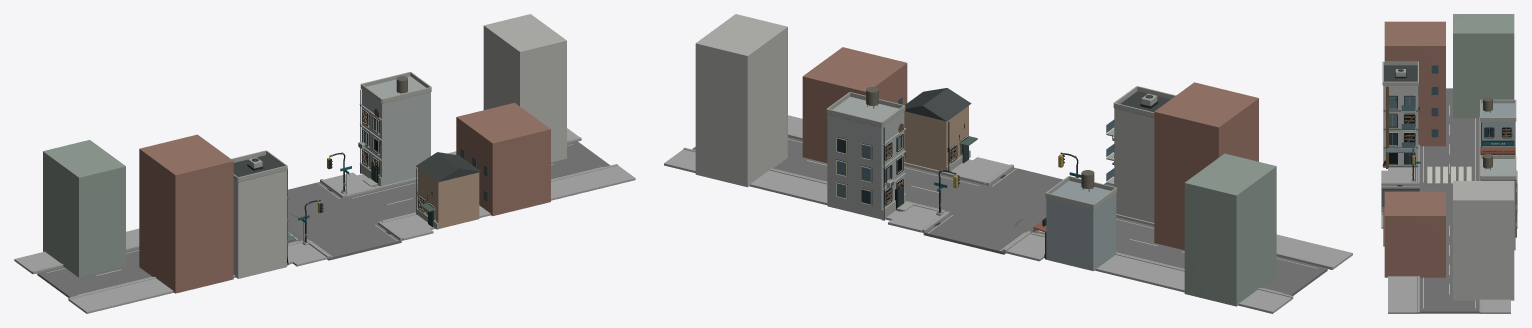
Rendered from city_hd_23.glb.
3 views of the same model, side by side, from view 1: azimuth 30°, elevation 25°; view 2: azimuth 150°, elevation 25°; view 3: azimuth 270°, elevation 25° (orthographic). The views are drawn at different scales.
Visible parts, largest first — view 1: CITY_realwall_9a7567, CITY_realwall_b8b9b4, CITY_PBR_asphalt, CITY_realwall_929f96, CITY_PBR_pavement, CITY_realwall_a9b0ae, CITY_realwall_b29982, CITY_trim, CITY_roof, CITY_curb, CITY_recess, CITY_paint (+1 smaller); view 2: CITY_realwall_b8b9b4, CITY_realwall_9a7567, CITY_PBR_asphalt, CITY_realwall_929f96, CITY_PBR_pavement, CITY_realwall_a9b0ae, CITY_realwall_9aa6a8, CITY_trim, CITY_realwall_b29982, CITY_roof, CITY_curb, CITY_frame (+5 smaller); view 3: CITY_realwall_9a7567, CITY_realwall_b8b9b4, CITY_realwall_929f96, CITY_PBR_asphalt, CITY_PBR_pavement, CITY_trim, CITY_realwall_9aa6a8, CITY_roof, CITY_realwall_a9b0ae, CITY_glass, CITY_zebra_paint, CITY_curb (+12 smaller).
Boxes of the visible parts, <box> form: CITY_realwall_9a7567: <box>139,102,550,293</box>; CITY_realwall_b8b9b4: <box>233,14,566,278</box>; CITY_PBR_asphalt: <box>37,141,610,297</box>; CITY_realwall_929f96: <box>43,140,125,277</box>; CITY_PBR_pavement: <box>14,128,635,313</box>; CITY_realwall_a9b0ae: <box>361,76,430,185</box>; CITY_realwall_b29982: <box>418,168,479,228</box>; CITY_trim: <box>231,72,438,229</box>; CITY_roof: <box>233,152,480,182</box>; CITY_curb: <box>31,137,618,300</box>; CITY_recess: <box>362,109,435,219</box>; CITY_paint: <box>46,144,603,295</box>; CITY_realwall_b8b9b4: <box>695,14,1154,222</box>; CITY_realwall_9a7567: <box>802,47,1258,250</box>; CITY_PBR_asphalt: <box>692,137,1327,295</box>; CITY_realwall_929f96: <box>1184,153,1276,306</box>; CITY_PBR_pavement: <box>664,115,1352,313</box>; CITY_realwall_a9b0ae: <box>827,96,904,219</box>; CITY_realwall_9aa6a8: <box>1046,180,1116,271</box>; CITY_trim: <box>826,86,1175,220</box>; CITY_realwall_b29982: <box>904,106,968,172</box>; CITY_roof: <box>881,88,1170,209</box>; CITY_curb: <box>683,133,1333,299</box>; CITY_frame: <box>835,133,967,205</box>; CITY_realwall_9a7567: <box>1384,21,1445,277</box>; CITY_realwall_b8b9b4: <box>1383,86,1514,300</box>; CITY_realwall_929f96: <box>1453,14,1514,118</box>; CITY_PBR_asphalt: <box>1381,88,1517,313</box>; CITY_PBR_pavement: <box>1381,167,1517,313</box>; CITY_trim: <box>1382,61,1516,179</box>; CITY_realwall_9aa6a8: <box>1480,103,1515,155</box>; CITY_roof: <box>1382,65,1515,206</box>; CITY_realwall_a9b0ae: <box>1480,159,1515,250</box>; CITY_glass: <box>1389,96,1415,148</box>; CITY_zebra_paint: <box>1427,166,1471,183</box>; CITY_curb: <box>1381,116,1517,313</box>.
Size of the model in its own units: 63 by 13.26 by 16.
